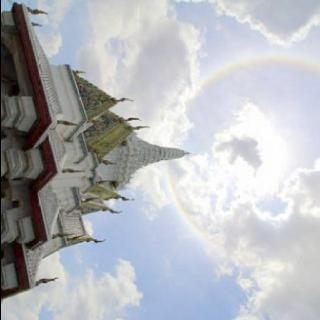Cirrostratus: (56, 5, 308, 320)
